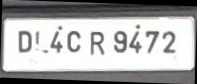character: (89, 30, 104, 54), (161, 30, 176, 53), (17, 30, 32, 52), (113, 30, 127, 53), (145, 30, 159, 53), (66, 30, 80, 52), (50, 30, 63, 53), (129, 30, 141, 53)
